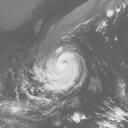cyclone: (43, 52, 86, 93)
